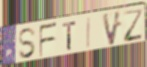F: (39, 22, 59, 59)
I: (86, 16, 92, 50)
S: (17, 26, 37, 60)
T: (61, 20, 77, 52)
V: (101, 9, 123, 48)
Z: (122, 7, 144, 43)
